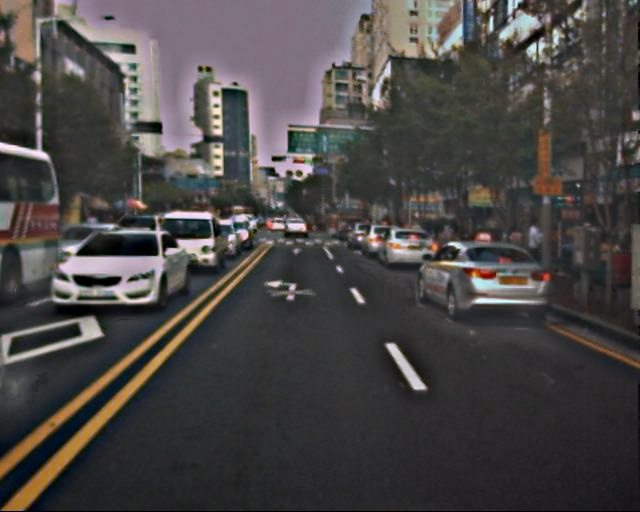person: (520, 217, 549, 287)
